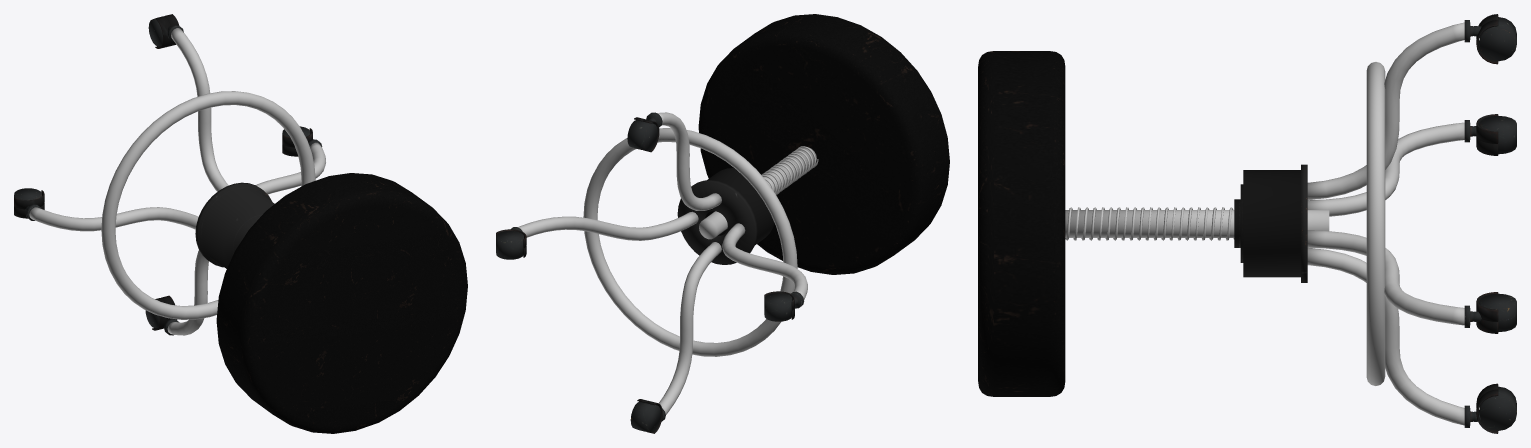
File: stool.fbx
3 views of the same model, side by side, from view 1: azimuth 30°, elevation 25°; view 2: azimuth 150°, elevation 25°; view 3: azimuth 270°, elevation 25° (orthographic). The views are drawn at different scales.
Visible parts, largest first — view 1: stool_mesh; view 2: stool_mesh; view 3: stool_mesh.
Part boxes in pixels (left/top/right/bottom): stool_mesh: left=14, top=14, right=467, bottom=433; stool_mesh: left=496, top=14, right=949, bottom=433; stool_mesh: left=978, top=14, right=1516, bottom=433.
Size of the model in its own units: 15.38 by 15.38 by 18.28.
Materials: 1 (1 with a texture image).
